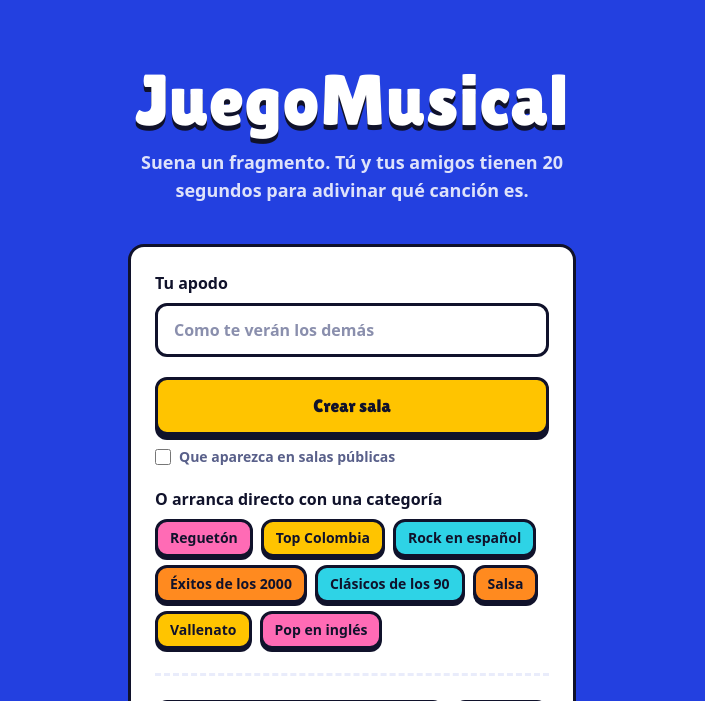
Test: Inicio › pide el apodo antes de crear o entrar
This screenshot has width=705, height=701.
Click the button "Crear sala" at (352, 406), box 155,377 -> 549,435
(page scrolled)
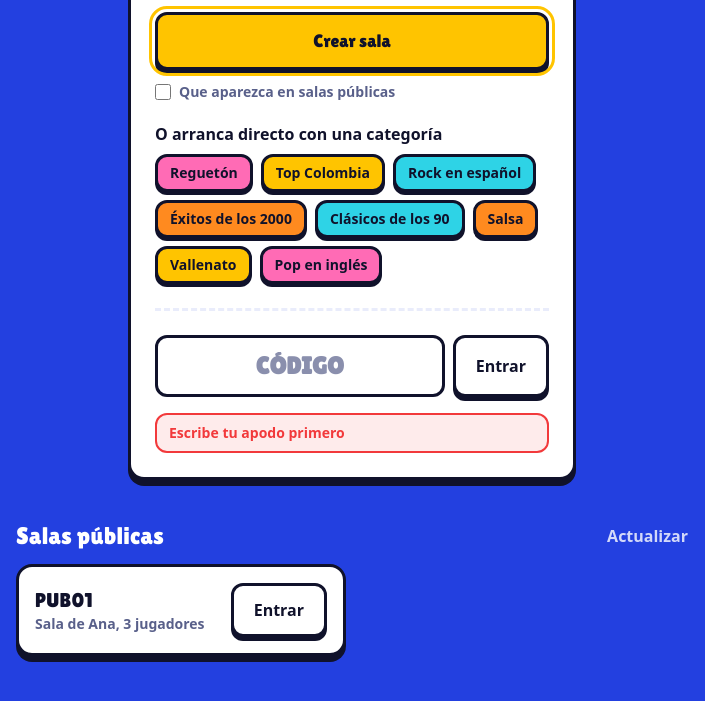
Expected: the message reads "Escribe tu apodo primero", 169,423 -> 345,442
